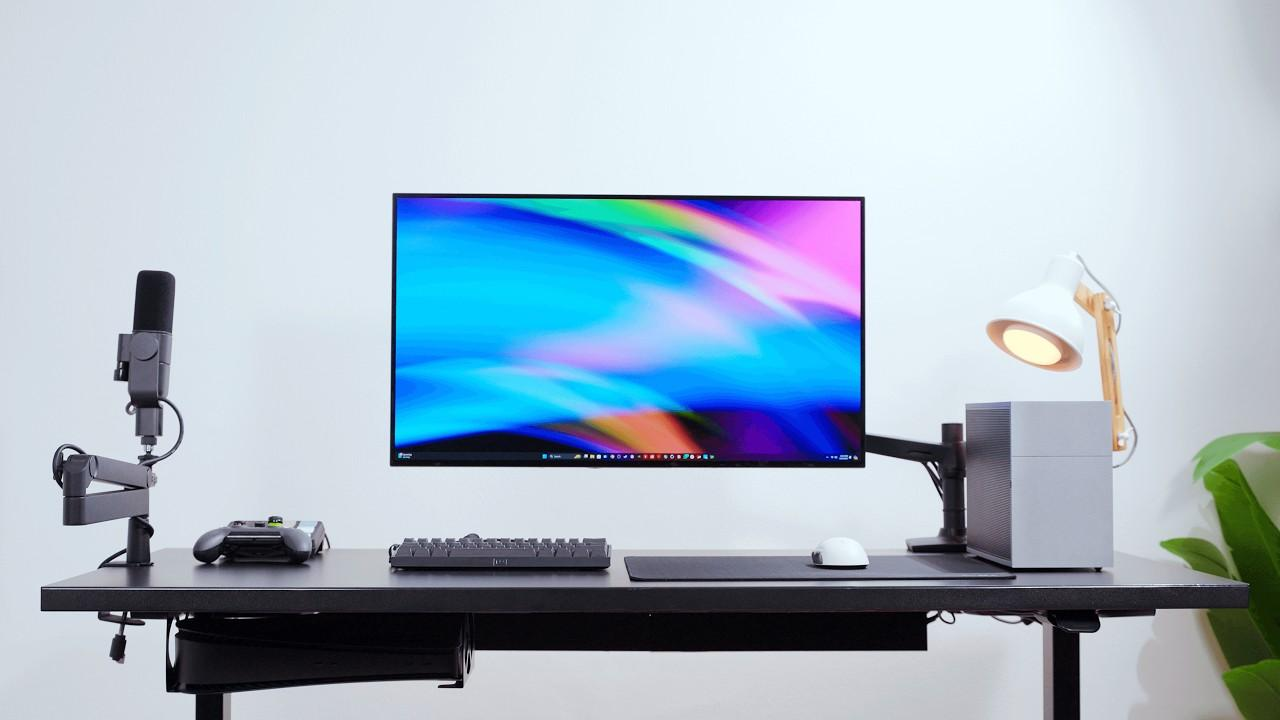joy_game: (193, 503, 337, 581)
keyboard: (379, 515, 629, 588)
mic: (97, 255, 181, 438)
monitor: (383, 183, 871, 480)
mouse: (807, 532, 878, 583)
pc: (953, 389, 1121, 581)
